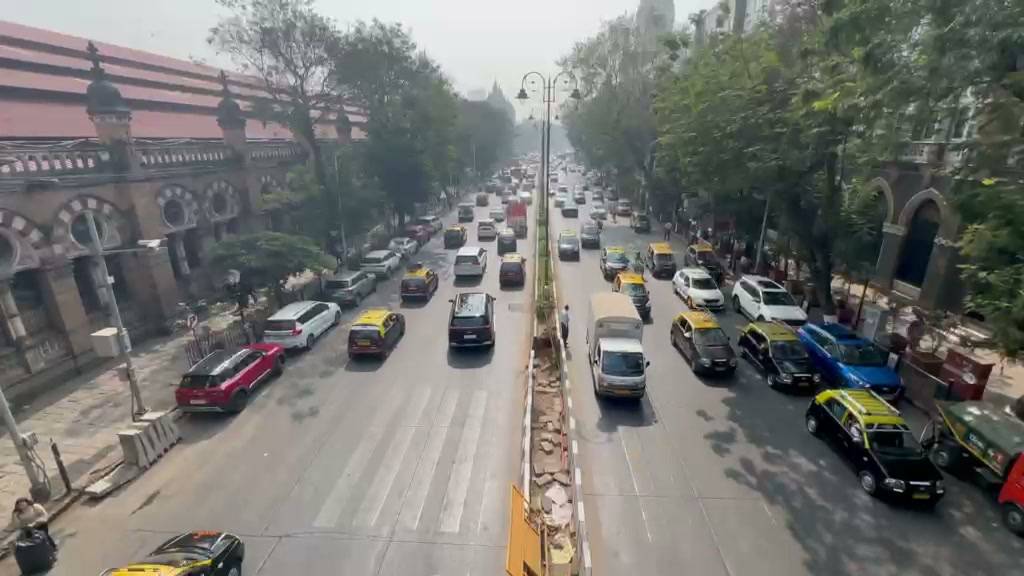car: (796, 321, 906, 405), (174, 342, 286, 414), (101, 529, 245, 576), (737, 321, 820, 394), (589, 317, 651, 400), (669, 308, 739, 379), (262, 299, 341, 353), (731, 275, 809, 323), (347, 307, 407, 361), (447, 291, 496, 350), (315, 269, 377, 310), (671, 267, 725, 311), (996, 449, 1023, 537), (615, 272, 653, 324), (399, 267, 438, 306), (452, 245, 488, 285), (359, 249, 403, 277), (498, 254, 525, 289)
truck: (804, 385, 946, 508), (931, 398, 1023, 487)
